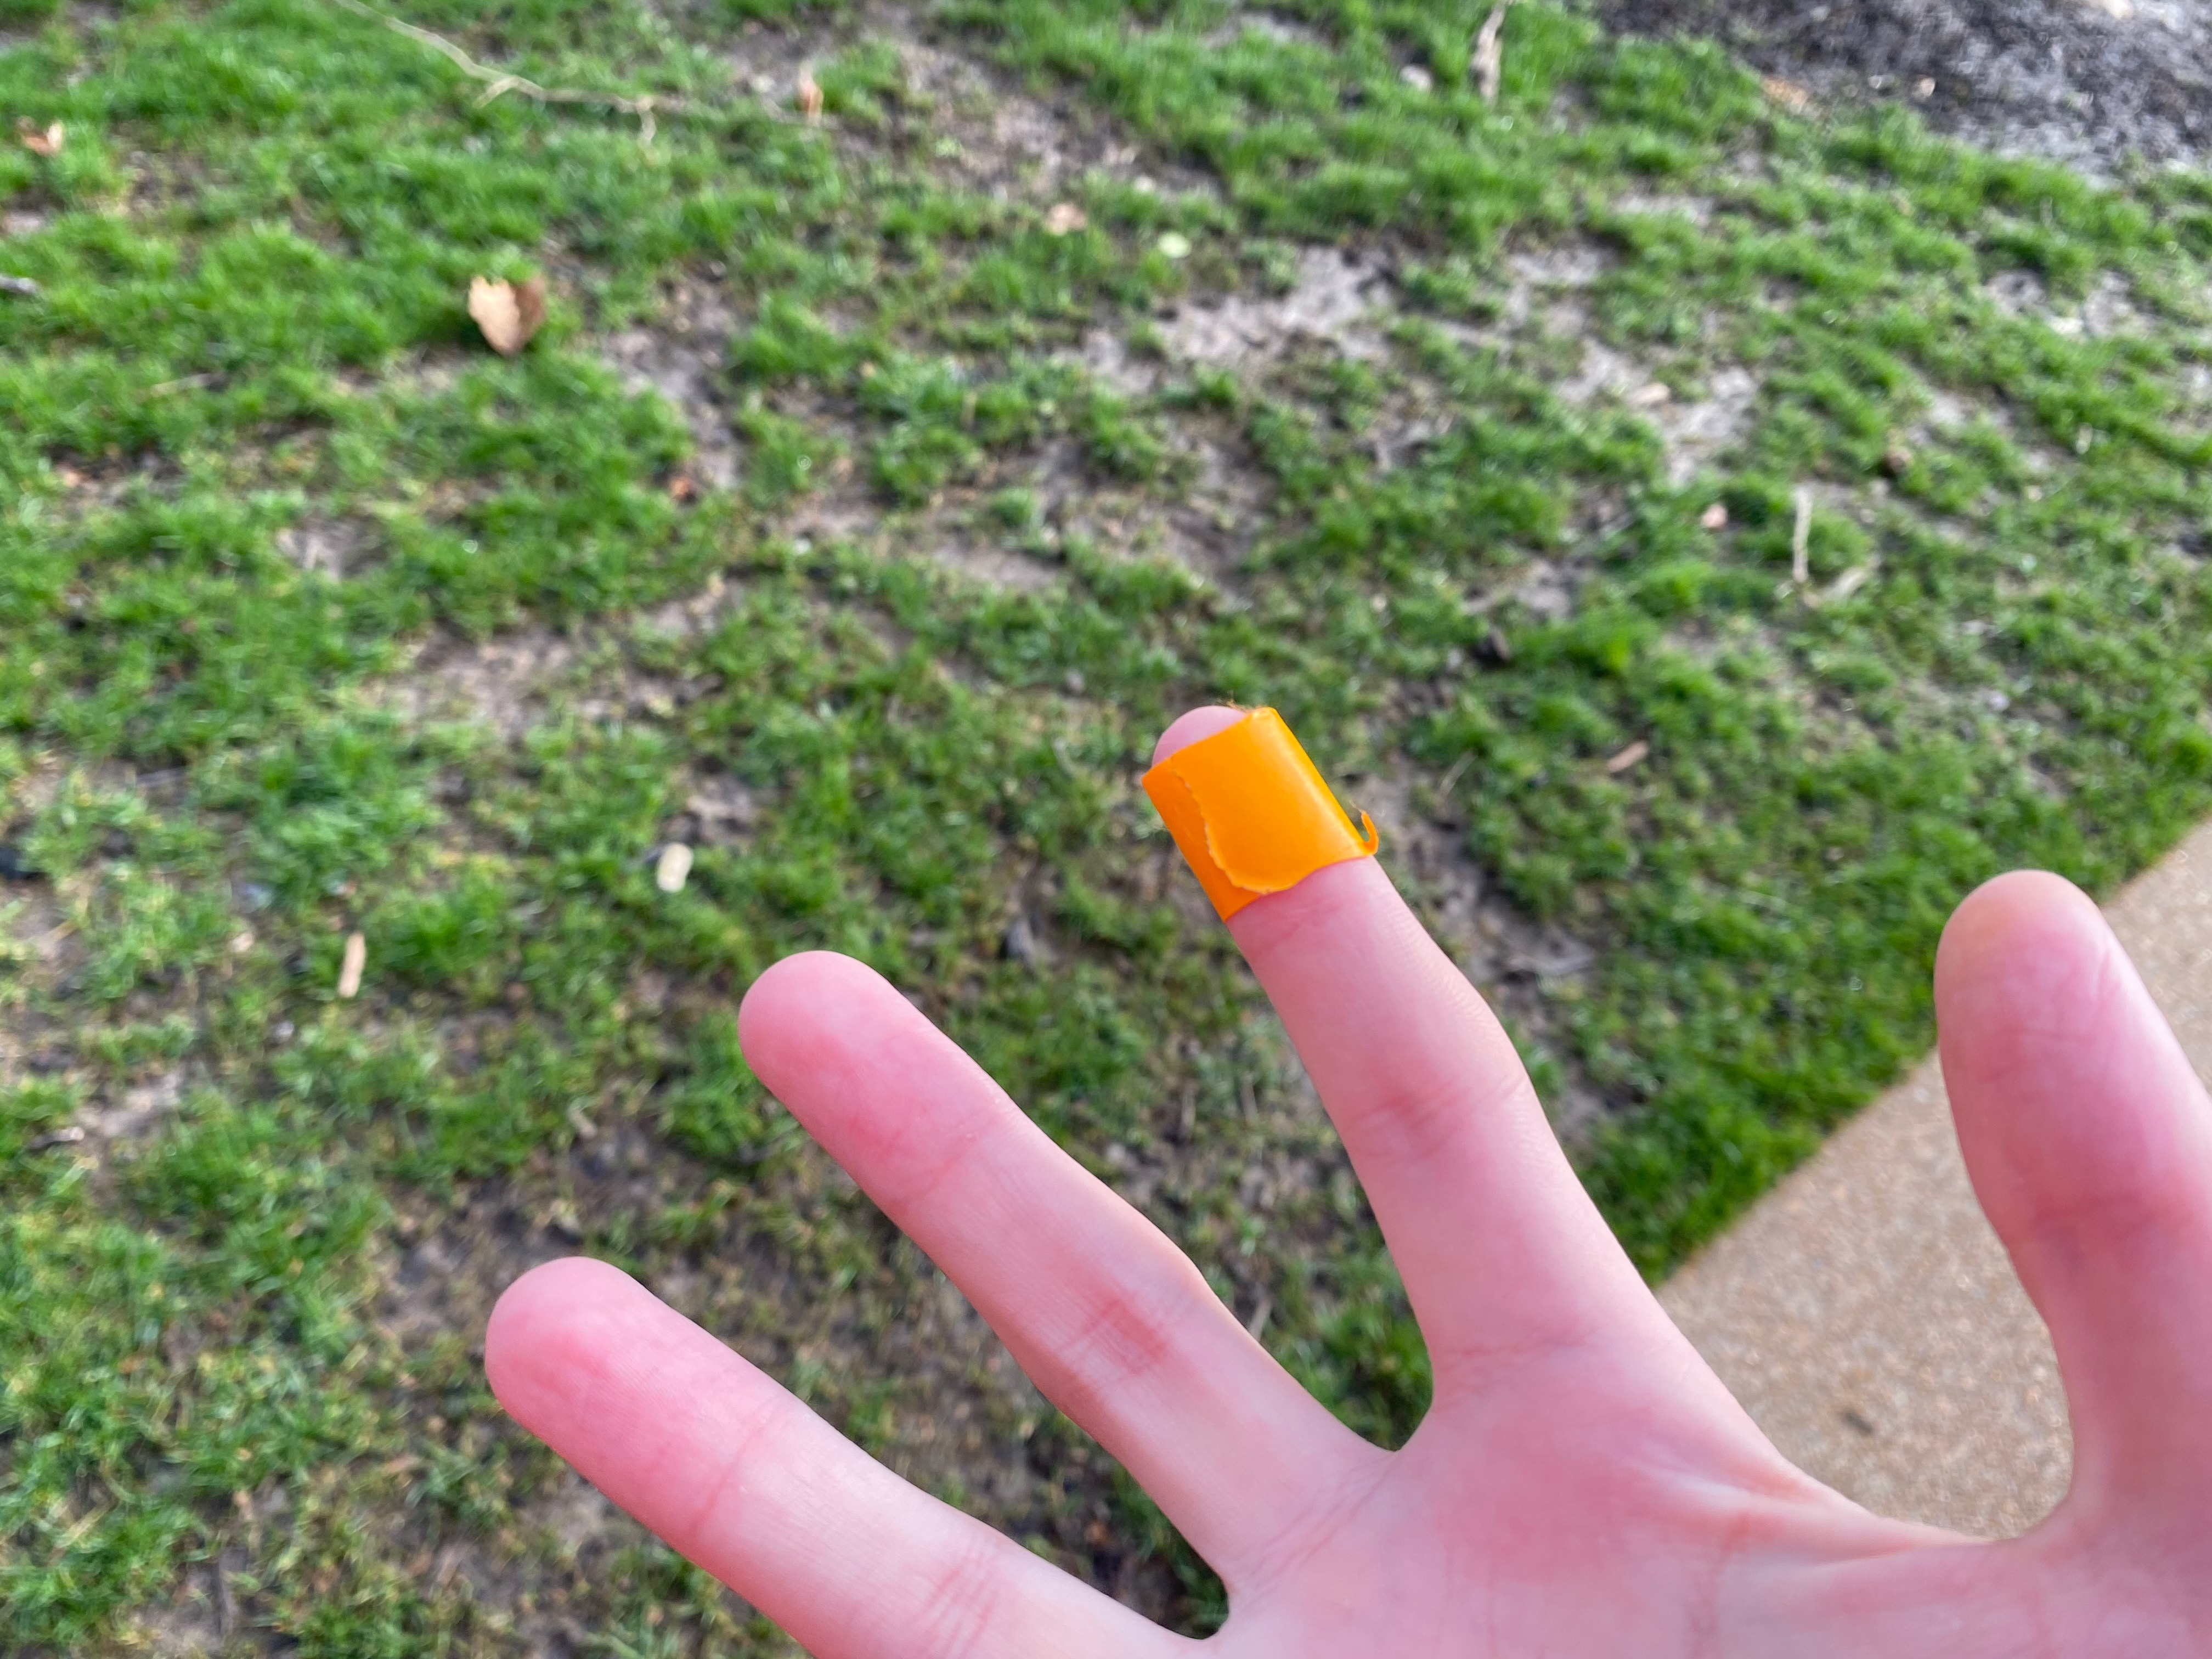fingertip: (1101, 704, 1512, 993)
